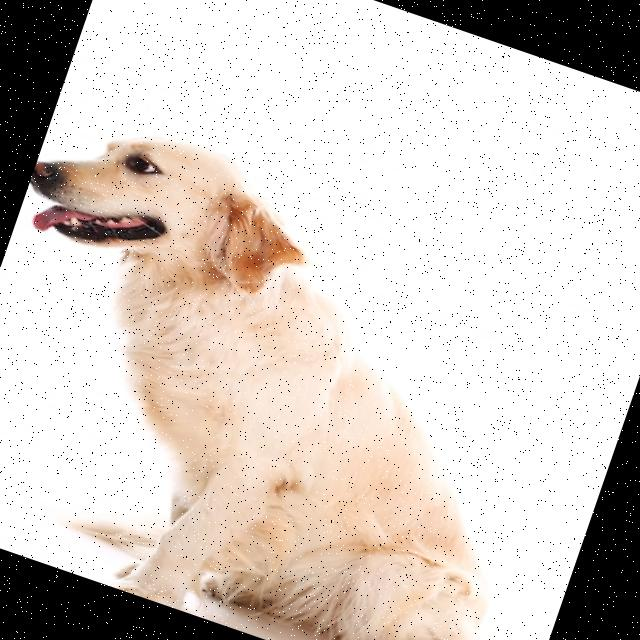Dog: (0, 98, 635, 640)
